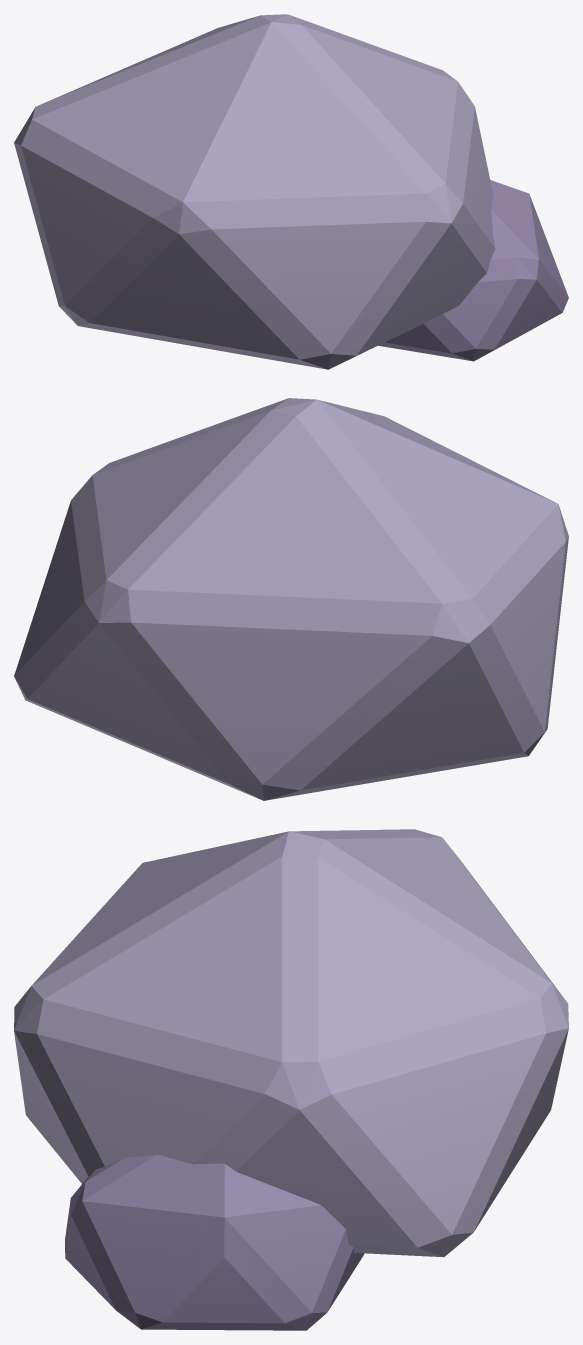
File: rock-large.glb
3 renders of one model, top to bottom at view 1: azimuth 30°, elevation 25°; view 2: azimuth 150°, elevation 25°; view 3: azimuth 270°, elevation 25°, orthographic. The views are drawn at different scales.
Parts seen in each view (by area): view 1: rock-large; view 2: rock-large; view 3: rock-large.
Part boxes in pixels (bbox=[...]): rock-large: bbox=[14, 14, 568, 369]; rock-large: bbox=[14, 398, 568, 800]; rock-large: bbox=[14, 829, 568, 1330].
Bounding box in the file's own units: 0.8 × 0.52 × 0.72.
